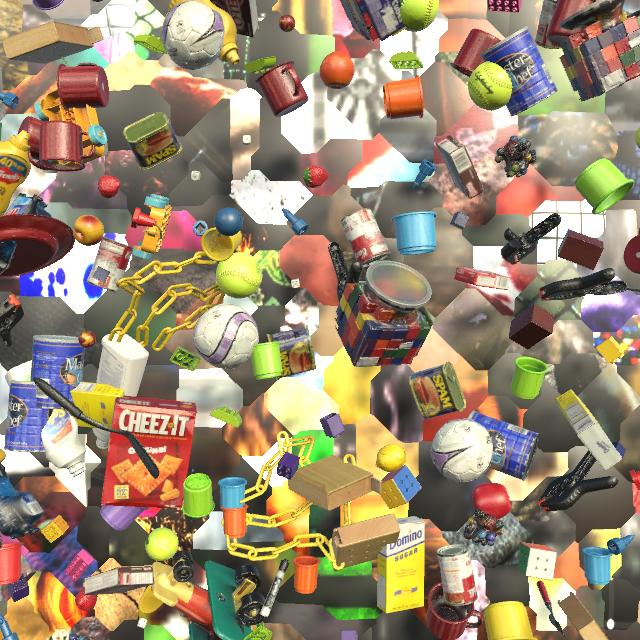ycb_002_master_chef_can: (480, 26, 558, 116), (467, 411, 540, 481), (31, 335, 85, 409), (4, 380, 54, 452)
ycb_003_cracker_box: (101, 396, 197, 509)
ycb_004_sugar_box: (556, 389, 622, 471), (377, 516, 425, 613), (64, 382, 125, 428)
ycb_005_tomato_soup_can: (341, 208, 391, 268), (87, 236, 134, 292), (436, 544, 478, 606), (535, 0, 561, 49)
ycb_006_mustard_bottle: (168, 0, 240, 65), (0, 130, 31, 216)
ycb_008_pudding_box: (436, 135, 484, 199), (84, 566, 155, 595), (210, 0, 259, 38)
ycb_009_gelatin_box: (454, 267, 511, 290)
ycb_010_potted_meat_can: (123, 112, 182, 170), (409, 361, 466, 419), (267, 326, 316, 380)
ycb_011_banana: (0, 449, 6, 463)
ycb_012_strawberry: (303, 165, 329, 188), (75, 587, 98, 611), (97, 175, 121, 198), (92, 0, 103, 2)
ycb_013_apple: (472, 482, 511, 520)
ycb_014_lemon: (375, 444, 407, 472)
ycb_015_peach: (73, 215, 104, 246)
ycb_017_orange: (319, 51, 355, 89)
